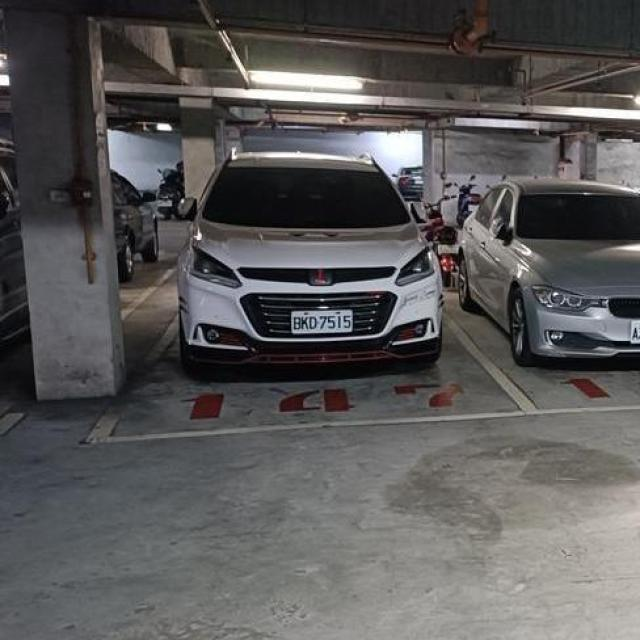W: (287, 304, 357, 337), (627, 313, 640, 345)
